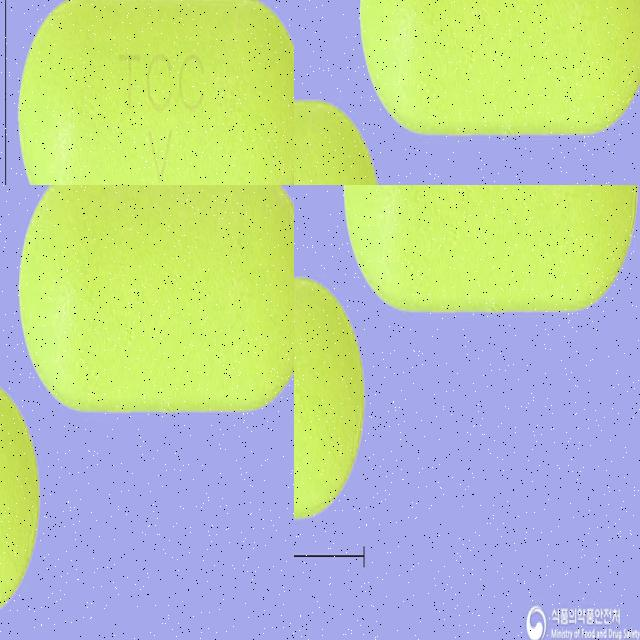Cifroxa: (24, 185, 289, 631)
Ciroctan - 500mg: (373, 0, 626, 185)
Cirok -500mg: (15, 0, 266, 185)
Clycin: (344, 185, 638, 309), (294, 274, 364, 519)
